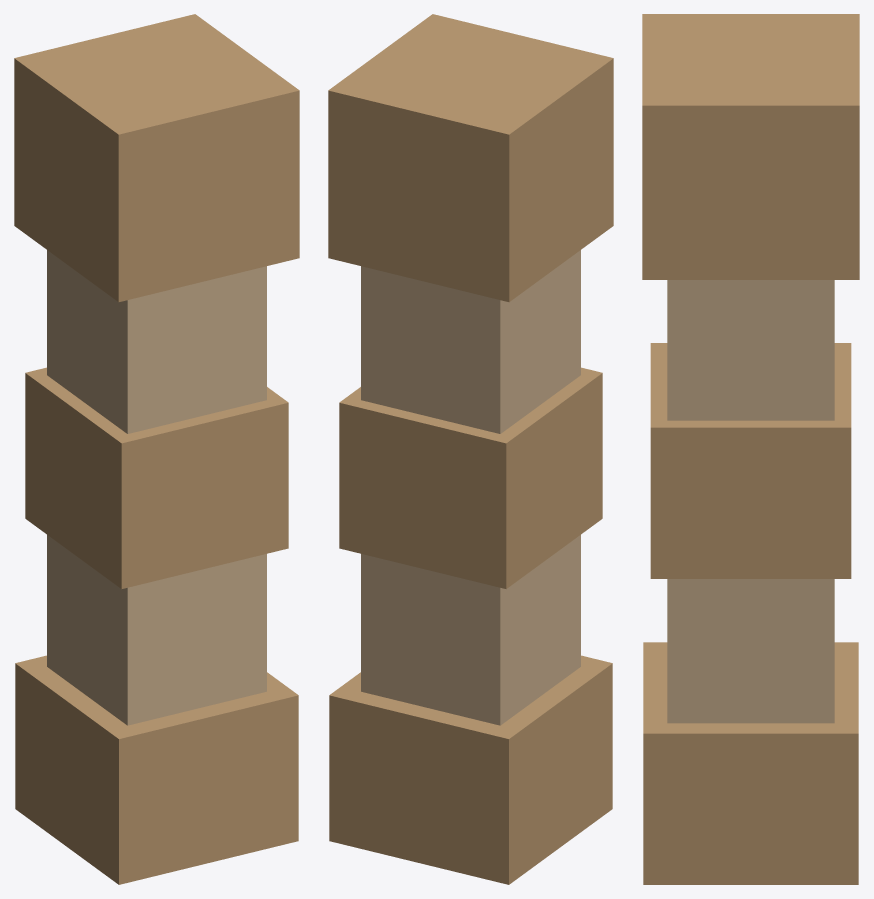
Rendered from Fence_01.fbx.
3 renders of one model, left to right at view 1: azimuth 30°, elevation 25°; view 2: azimuth 150°, elevation 25°; view 3: azimuth 270°, elevation 25°, orthographic. The views are drawn at different scales.
Visible parts, largest first — view 1: Box002; view 2: Box002; view 3: Box002.
Part boxes in pixels (<box>): Box002: <box>14,14,299,884</box>; Box002: <box>328,14,613,884</box>; Box002: <box>642,14,859,884</box>.
Size of the model in its own units: 10.24 by 40.55 by 10.24.
1 material, 1 textured.
